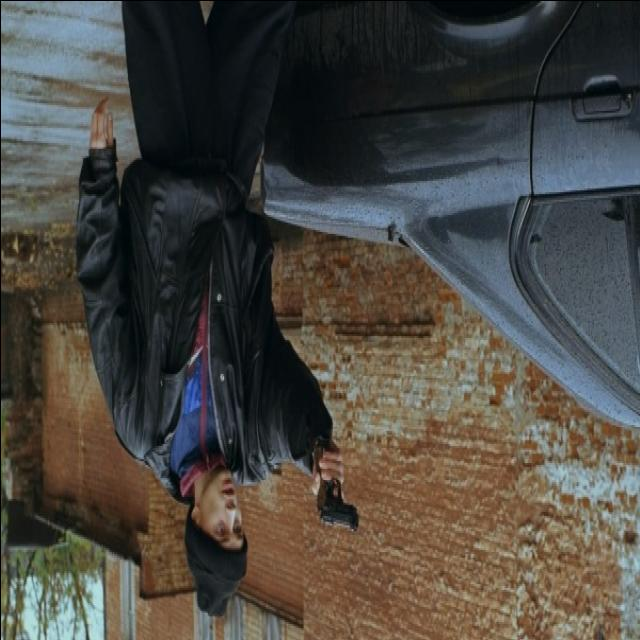weapons: (302, 418, 374, 561)
